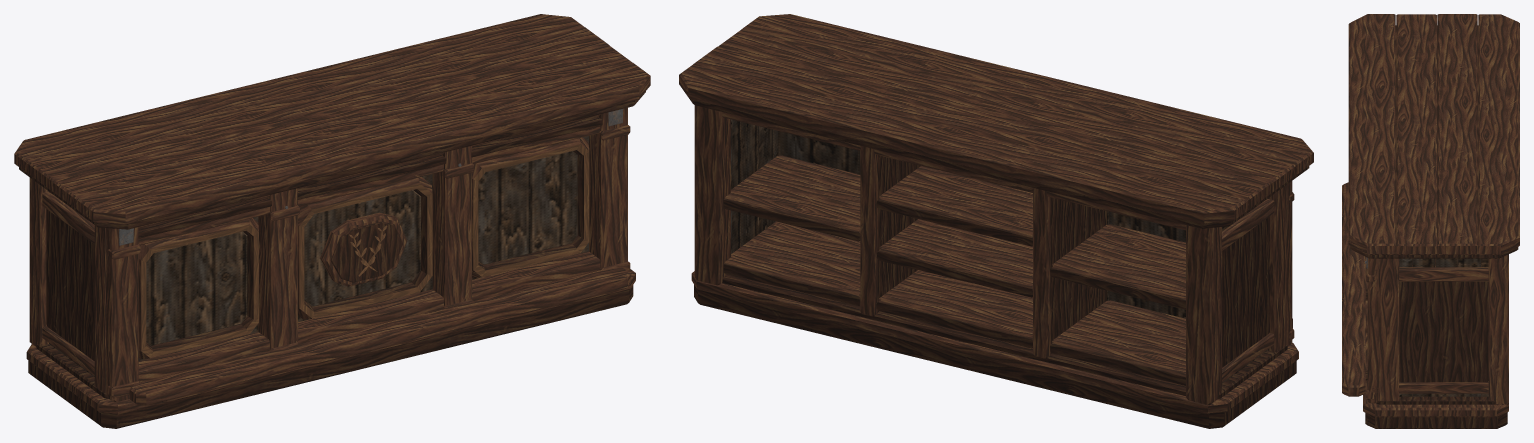
The model's file is Balcao-de-Taverna.glb.
The picture shows the model from 3 angles, left to right: view 1: azimuth 30°, elevation 25°; view 2: azimuth 150°, elevation 25°; view 3: azimuth 270°, elevation 25°; orthographic projection. The views are drawn at different scales.
Visible parts, largest first — view 1: Tampo, Estrutura, Frente entalhada, Apoio de pes; view 2: Prateleiras, Tampo, Estrutura, Frente entalhada; view 3: Tampo, Estrutura, Frente entalhada, Apoio de pes.
Part boxes in pixels (left/top/right/bottom): Tampo: left=14, top=14, right=650, bottom=229; Estrutura: left=26, top=107, right=635, bottom=428; Frente entalhada: left=42, top=109, right=630, bottom=398; Apoio de pes: left=129, top=267, right=630, bottom=405; Prateleiras: left=723, top=146, right=1185, bottom=385; Tampo: left=679, top=14, right=1313, bottom=228; Estrutura: left=691, top=105, right=1298, bottom=428; Frente entalhada: left=1222, top=192, right=1294, bottom=382; Tampo: left=1348, top=14, right=1519, bottom=258; Estrutura: left=1363, top=32, right=1508, bottom=428; Frente entalhada: left=1365, top=257, right=1488, bottom=399; Apoio de pes: left=1342, top=182, right=1367, bottom=396.
Bounding box in the file's own units: 2.93 × 1.13 × 0.952.
5 materials, 5 textured.
